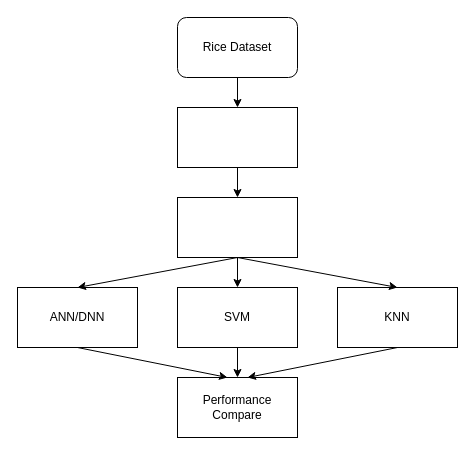
Some shapes in this 475 by 455 pixel diagram are drawn without their labels. The box of each missing label's shape, as (x1, y1, x2, y2) in pixels:
Data Exploration: (176, 106, 298, 168)
Data Preprocessing: (176, 196, 298, 258)
